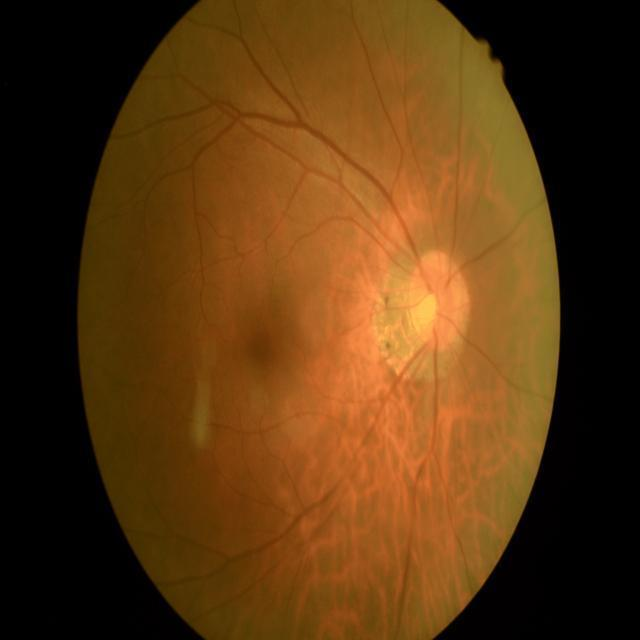cup: (422, 274, 453, 328)
disk: (407, 250, 469, 348)
